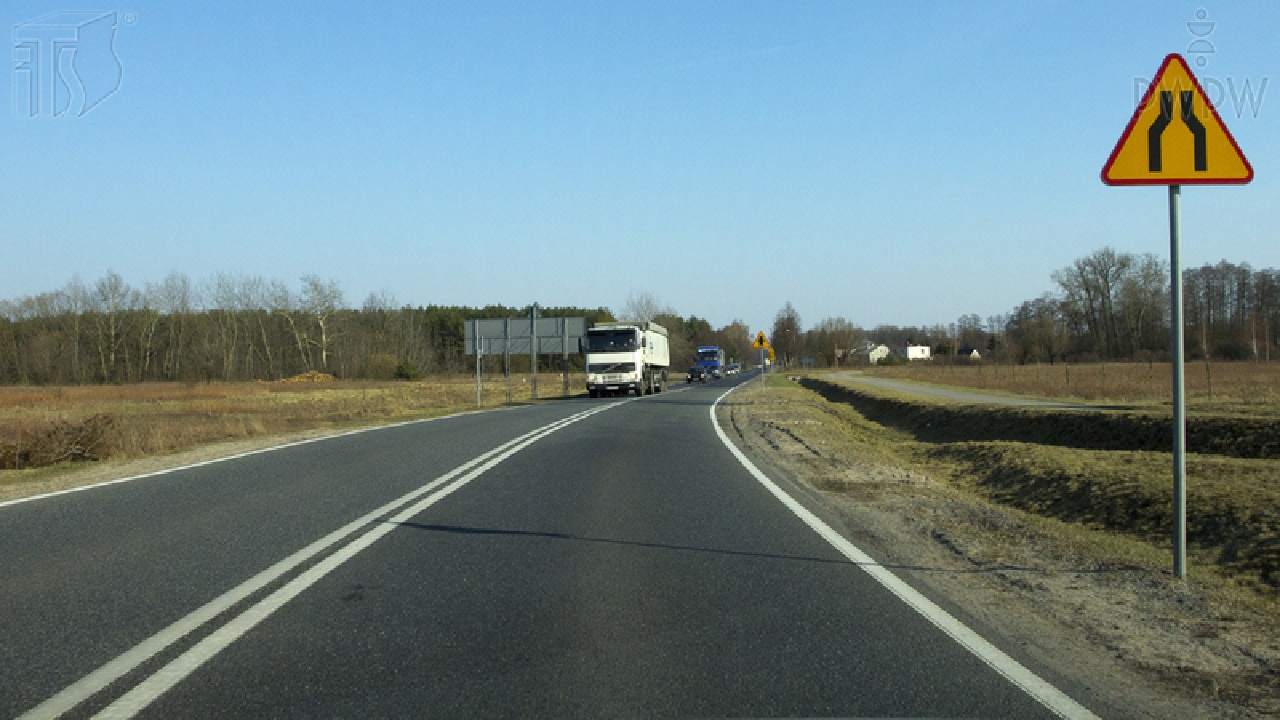A12a: (1100, 55, 1252, 185)
